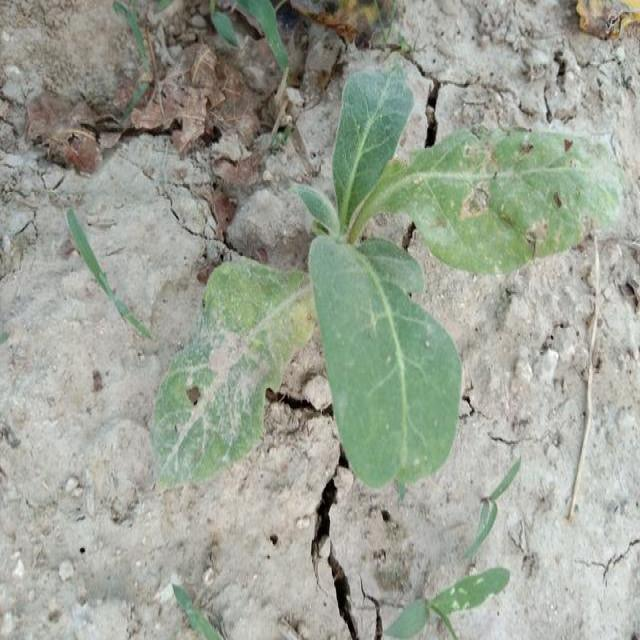crop: (152, 73, 627, 486)
